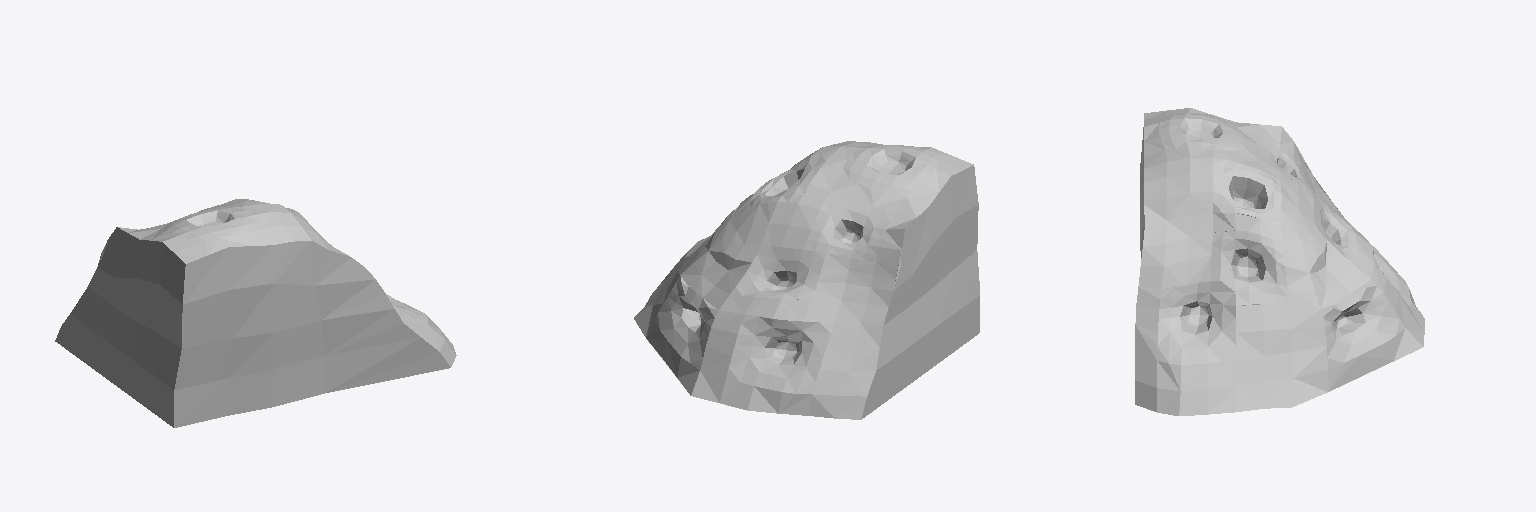
The model's file is SwarmNestB.obj.
The picture shows the model from 3 angles: view 1: azimuth 30°, elevation 25°; view 2: azimuth 150°, elevation 25°; view 3: azimuth 270°, elevation 25°; orthographic projection.
Parts seen in each view (by area): view 1: pCube1; view 2: pCube1; view 3: pCube1.
Part boxes in pixels (x1,y1,x2,y2): pCube1: (55,199,456,427); pCube1: (634,141,979,419); pCube1: (1135,108,1424,415).
Size of the model in its own units: 14.01 by 8.07 by 12.